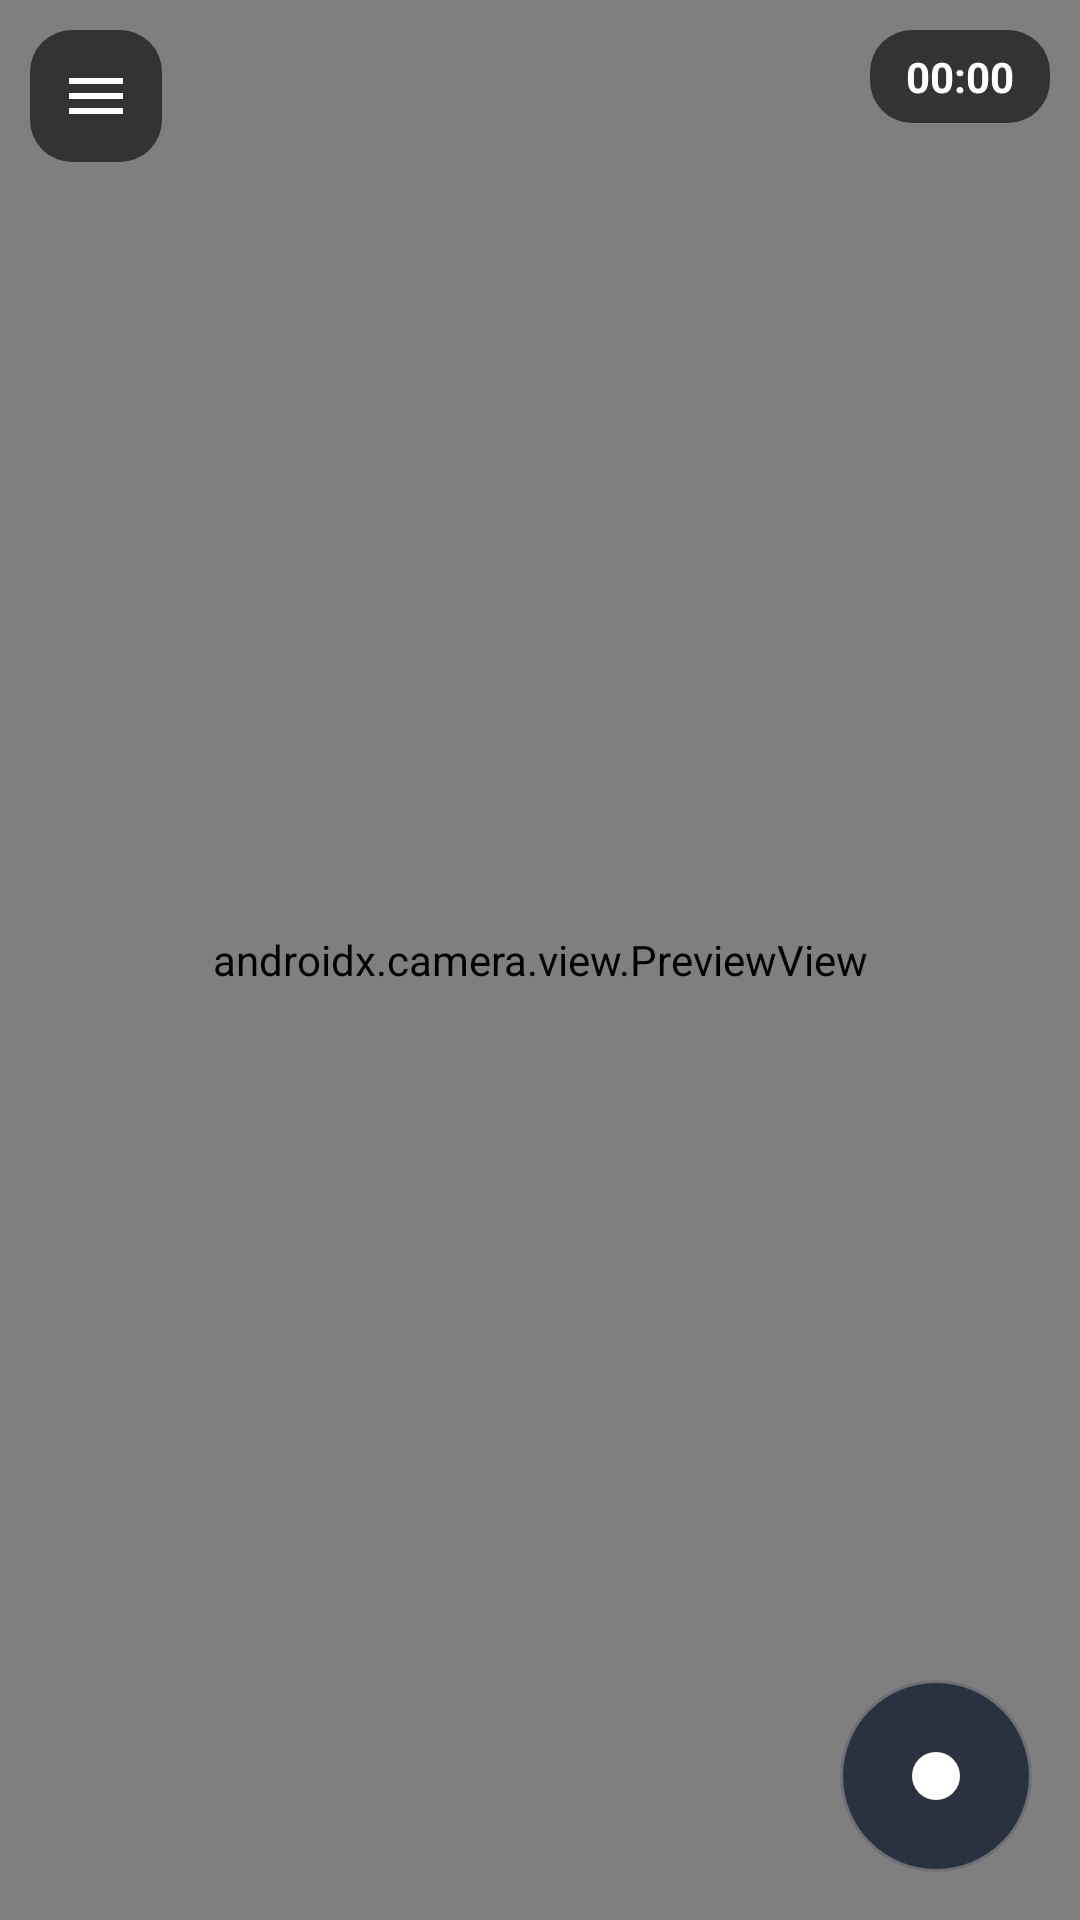

Icon click points for this 1080x1920 phone screenshot, format [x,y]:
Меню: [96,96]
Начать запись: [936,1776]
